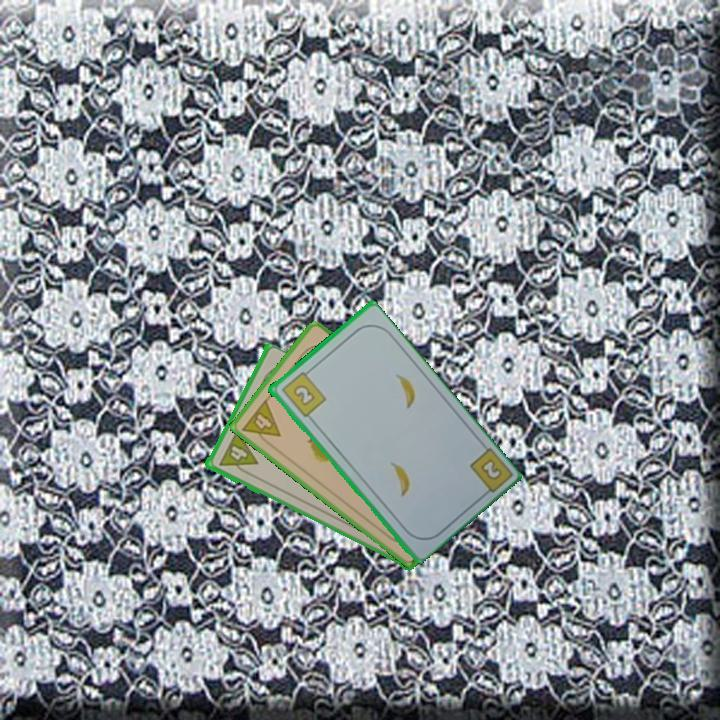2b: (278, 366, 329, 420), (465, 444, 513, 501)
4p: (238, 396, 283, 450), (215, 428, 260, 479)
